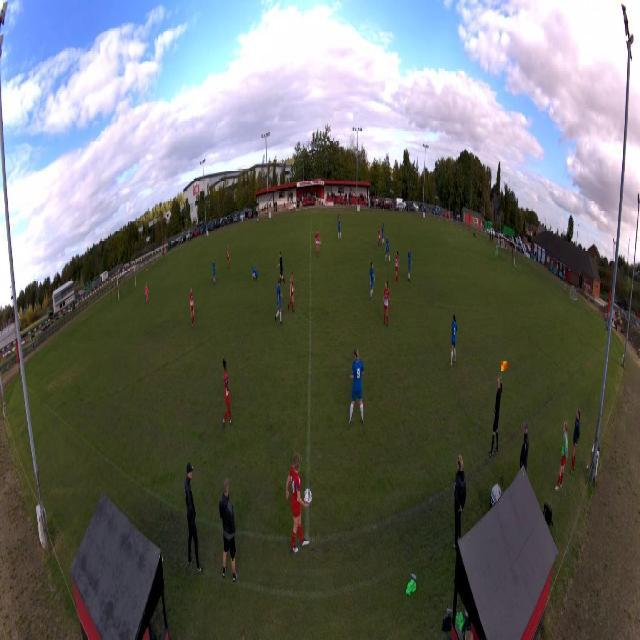player: (348, 346, 365, 427), (221, 358, 234, 430), (381, 281, 391, 330), (275, 275, 284, 326), (450, 313, 458, 368), (287, 269, 296, 315), (276, 250, 286, 289), (369, 260, 377, 302), (189, 286, 195, 327), (393, 249, 399, 285), (314, 228, 320, 259), (385, 234, 391, 265), (408, 247, 413, 284), (337, 214, 342, 241), (377, 226, 382, 252), (145, 280, 150, 304), (227, 243, 231, 271), (212, 258, 216, 286), (381, 221, 385, 247), (251, 268, 258, 282), (495, 244, 498, 261), (338, 213, 341, 220)
